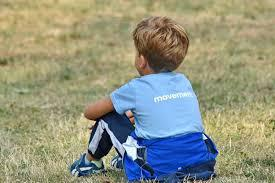child: (59, 16, 223, 181)
